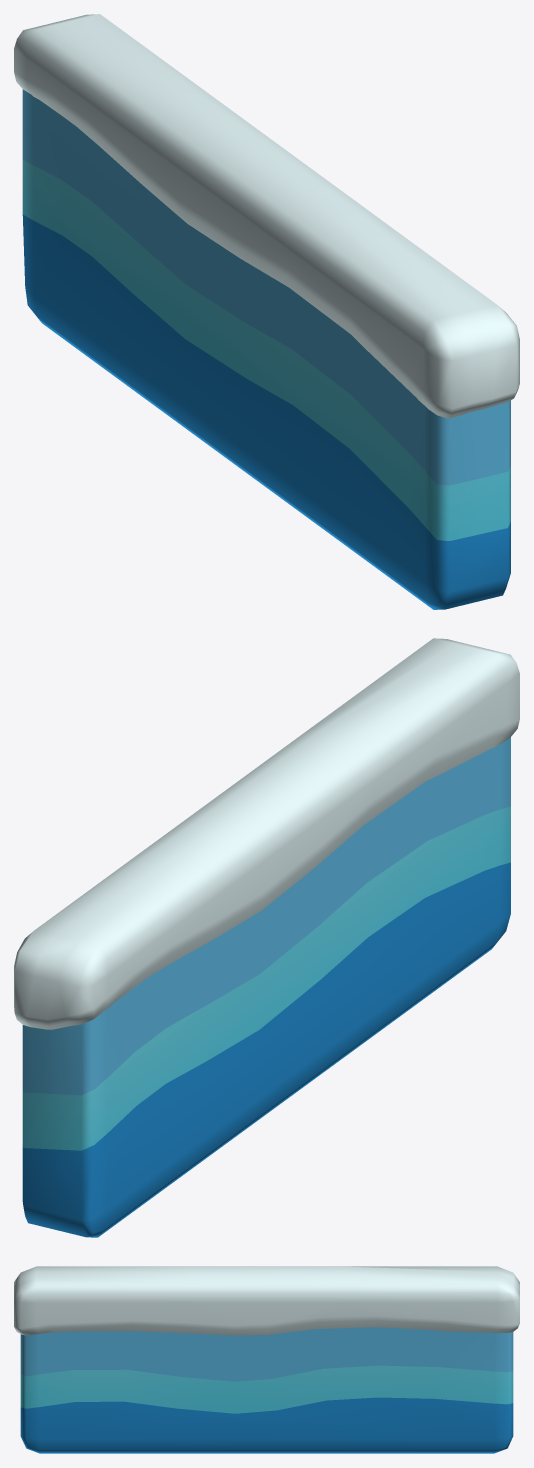
The model's file is ice_wall_005.fbx.
The picture shows the model from 3 angles, top to bottom: view 1: azimuth 30°, elevation 25°; view 2: azimuth 150°, elevation 25°; view 3: azimuth 270°, elevation 25°; orthographic projection. The views are drawn at different scales.
Visible parts, largest first — view 1: ice_wall_005; view 2: ice_wall_005; view 3: ice_wall_005.
Boxes of the visible parts, x1=… form: ice_wall_005: x1=14, y1=14, x2=519, y2=609; ice_wall_005: x1=14, y1=638, x2=519, y2=1237; ice_wall_005: x1=14, y1=1266, x2=519, y2=1453.
Size of the model in its own units: 50 by 447 by 171.
